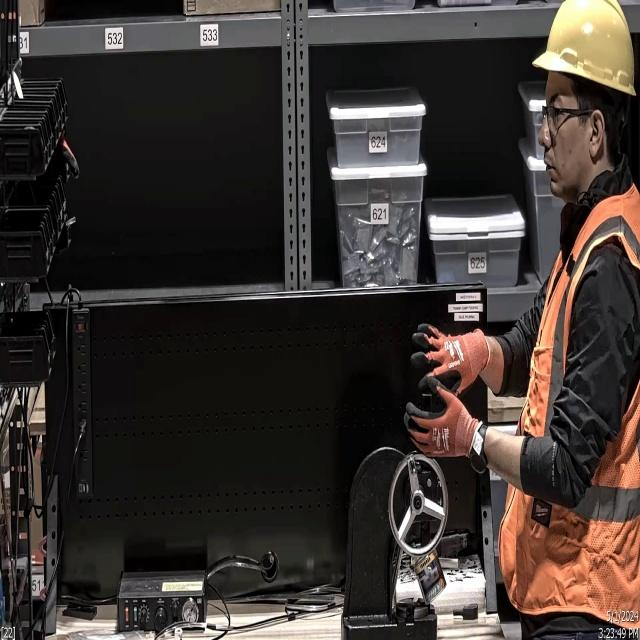gloves: (402, 323, 489, 399), (404, 376, 478, 464)
